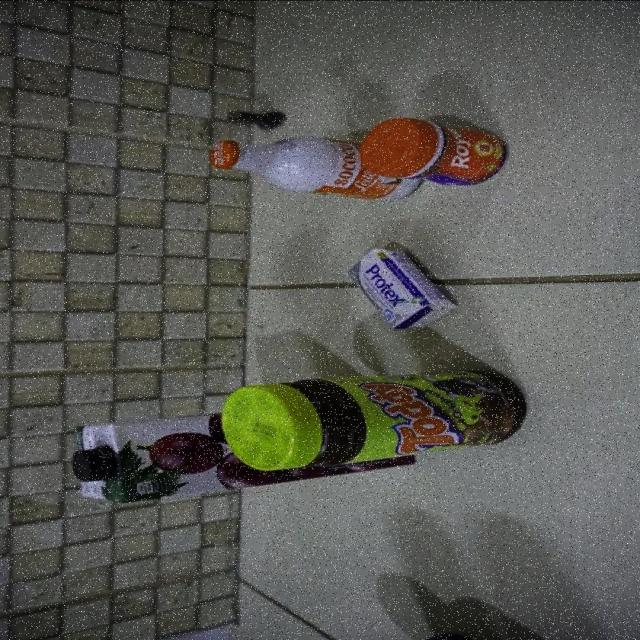ChocolatePowder: (220, 366, 526, 470)
CoconutMilk: (207, 137, 424, 200)
Soap: (344, 245, 456, 329)
Yeast: (358, 116, 508, 184)
